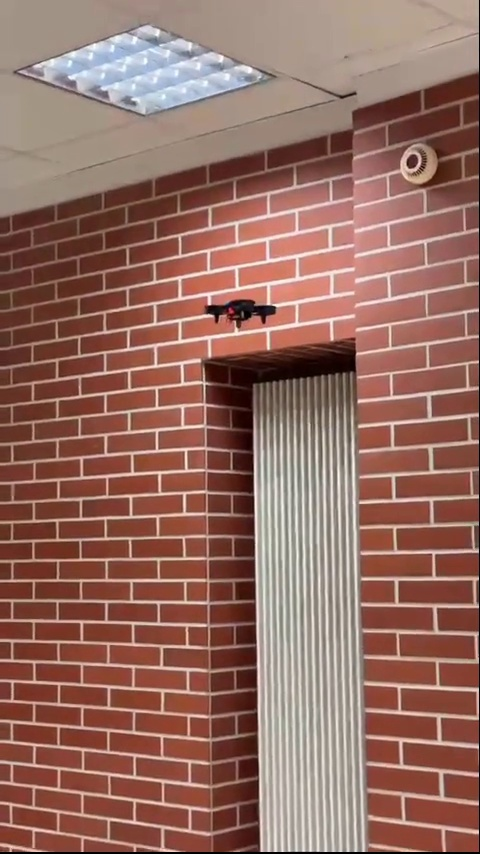drone: (205, 296, 282, 331)
